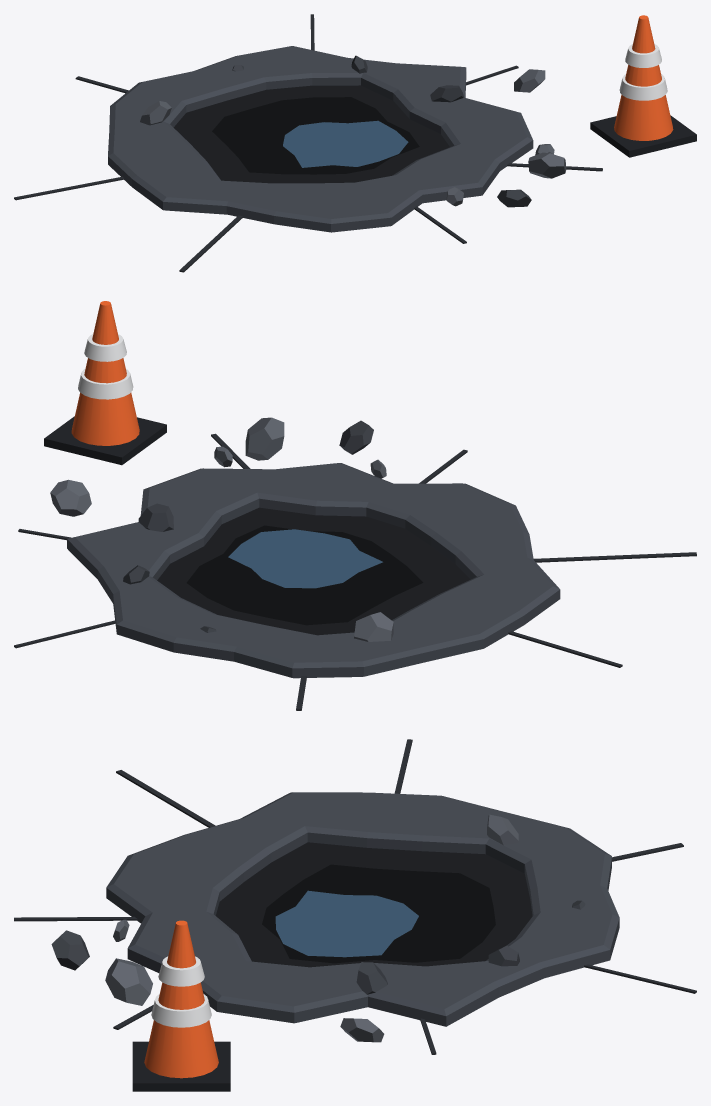
File: buraco.glb
The picture shows the model from 3 angles, top to bottom: view 1: azimuth 30°, elevation 25°; view 2: azimuth 150°, elevation 25°; view 3: azimuth 270°, elevation 25°; orthographic projection. The views are drawn at different scales.
Parts seen in each view (by area): view 1: Buraco_Borda, Buraco_Fundo, Buraco_Profundo, Buraco_Poca, Cone_Corpo, Cone_Base, Entulho_3, Cone_Faixa_2, Cone_Faixa_1, Entulho_7, Entulho_5, Entulho_8 (+3 smaller); view 2: Buraco_Borda, Buraco_Fundo, Buraco_Profundo, Buraco_Poca, Cone_Corpo, Cone_Base, Entulho_3, Entulho_7, Cone_Faixa_2, Entulho_5, Cone_Faixa_1, Entulho_2 (+2 smaller); view 3: Buraco_Borda, Buraco_Fundo, Buraco_Profundo, Buraco_Poca, Cone_Corpo, Cone_Base, Entulho_3, Cone_Faixa_2, Entulho_8, Cone_Faixa_1, Entulho_7, Entulho_2 (+2 smaller).
Boxes of the visible parts, x1=… form: Buraco_Borda: x1=108, y1=46, x2=533, y2=232; Buraco_Fundo: x1=173, y1=85, x2=449, y2=183; Buraco_Profundo: x1=212, y1=97, x2=419, y2=174; Buraco_Poca: x1=283, y1=120, x2=408, y2=167; Cone_Corpo: x1=614, y1=15, x2=673, y2=140; Cone_Base: x1=590, y1=115, x2=696, y2=157; Entulho_3: x1=528, y1=152, x2=566, y2=178; Cone_Faixa_2: x1=619, y1=74, x2=667, y2=100; Cone_Faixa_1: x1=625, y1=44, x2=661, y2=67; Entulho_7: x1=514, y1=69, x2=545, y2=92; Entulho_5: x1=140, y1=101, x2=171, y2=125; Entulho_8: x1=497, y1=189, x2=531, y2=207; Buraco_Borda: x1=67, y1=463, x2=560, y2=678; Buraco_Fundo: x1=157, y1=507, x2=470, y2=635; Buraco_Profundo: x1=186, y1=525, x2=423, y2=625; Buraco_Poca: x1=228, y1=529, x2=382, y2=588; Cone_Corpo: x1=71, y1=301, x2=139, y2=445; Cone_Base: x1=44, y1=416, x2=166, y2=465; Entulho_3: x1=245, y1=417, x2=284, y2=460; Entulho_7: x1=50, y1=479, x2=91, y2=516; Cone_Faixa_2: x1=78, y1=368, x2=133, y2=399; Entulho_5: x1=354, y1=612, x2=393, y2=641; Cone_Faixa_1: x1=84, y1=334, x2=126, y2=361; Entulho_2: x1=138, y1=503, x2=173, y2=531; Buraco_Borda: x1=106, y1=792, x2=619, y2=1026; Buraco_Fundo: x1=216, y1=842, x2=532, y2=967; Buraco_Profundo: x1=262, y1=864, x2=495, y2=963; Buraco_Poca: x1=275, y1=890, x2=418, y2=957; Cone_Corpo: x1=144, y1=920, x2=218, y2=1078; Cone_Base: x1=132, y1=1041, x2=230, y2=1091; Entulho_3: x1=105, y1=958, x2=152, y2=1005; Cone_Faixa_2: x1=151, y1=994, x2=211, y2=1027; Entulho_8: x1=51, y1=930, x2=89, y2=970; Cone_Faixa_1: x1=158, y1=956, x2=204, y2=986; Entulho_7: x1=340, y1=1018, x2=384, y2=1042; Entulho_2: x1=356, y1=962, x2=387, y2=994.
Size of the model in its own units: 3.55 by 0.7183 by 2.93.
